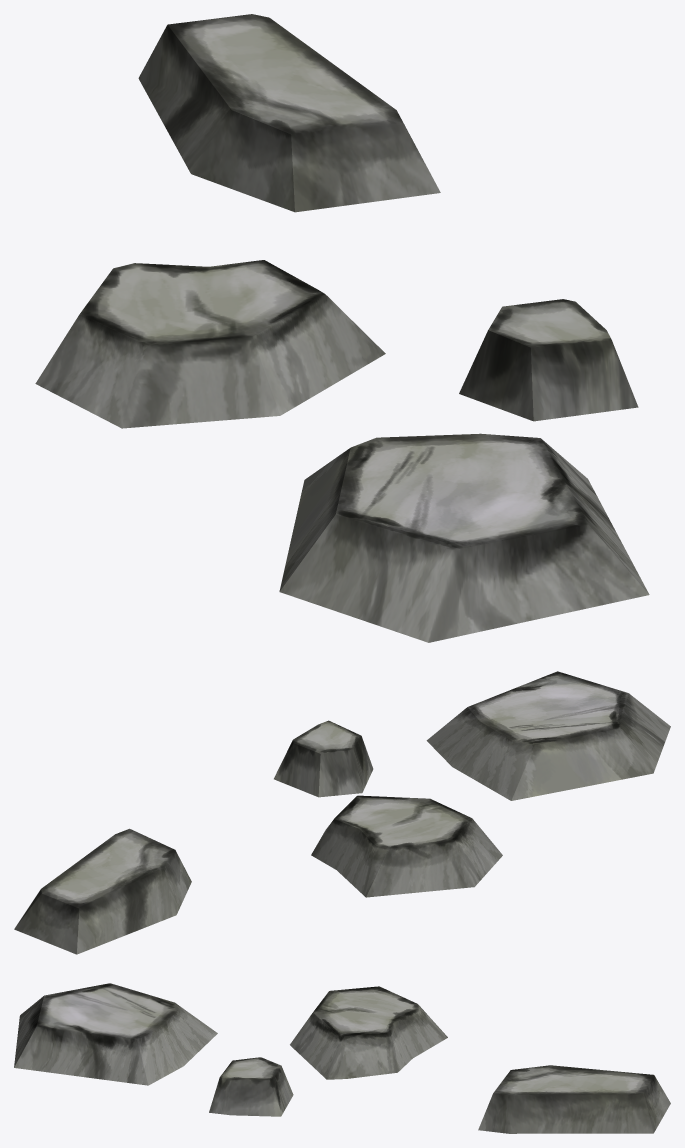
The model's file is DEC_StepStoneC.FBX.
3 views of the same model, one above another, from view 1: azimuth 30°, elevation 25°; view 2: azimuth 150°, elevation 25°; view 3: azimuth 270°, elevation 25° (orthographic). The views are drawn at different scales.
Visible parts, largest first — view 1: DEC_StoneStepC; view 2: DEC_StoneStepC; view 3: DEC_StoneStepC.
Boxes of the visible parts, box(x1,y1,x2,y2) form: DEC_StoneStepC: box(35, 14, 649, 642); DEC_StoneStepC: box(14, 671, 670, 954); DEC_StoneStepC: box(14, 983, 670, 1133).
Size of the model in its own units: 187 by 20.71 by 390.
